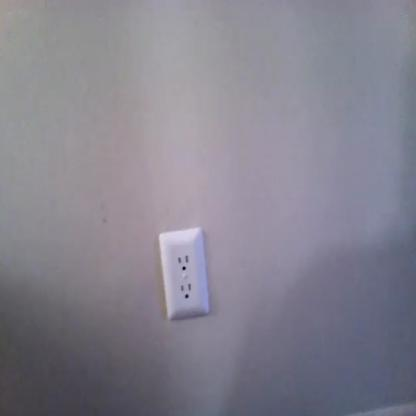OUTLET: (159, 232, 208, 316)
